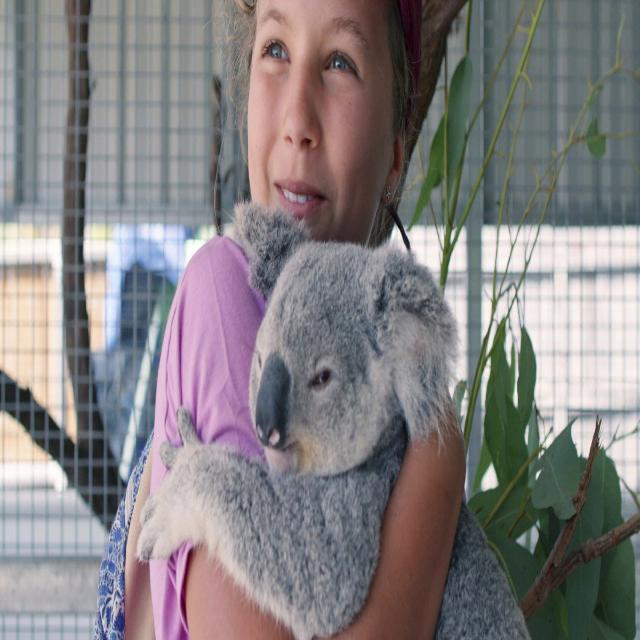koala: (139, 205, 457, 639)
